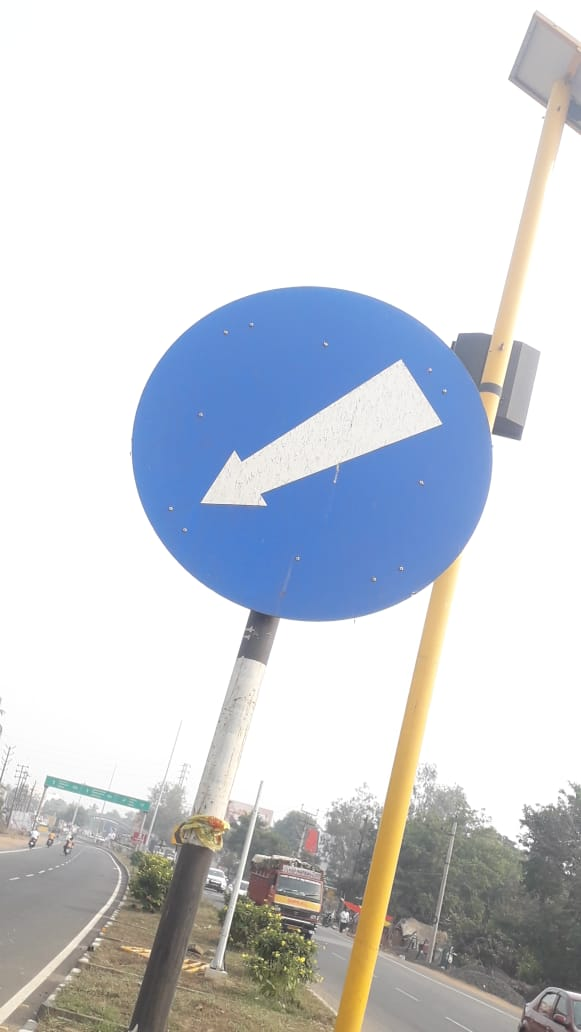go left: (113, 262, 500, 649)
